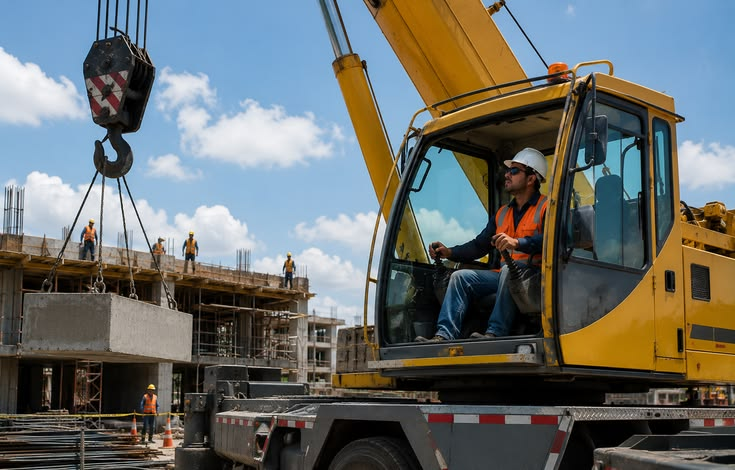crane: (60, 4, 731, 453)
hardhat: (503, 145, 548, 177), (281, 247, 297, 261), (82, 216, 101, 226), (144, 382, 158, 389)
person: (435, 142, 555, 338), (123, 378, 175, 448), (73, 215, 108, 273), (272, 243, 309, 296), (147, 230, 168, 279), (180, 232, 201, 279)
safety_cone: (120, 404, 145, 445), (155, 412, 181, 450)
safety_vest: (488, 191, 544, 281), (140, 393, 164, 415), (79, 229, 97, 247), (283, 258, 296, 273), (186, 236, 195, 255)
